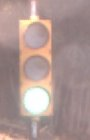Green: (12, 14, 62, 120)
